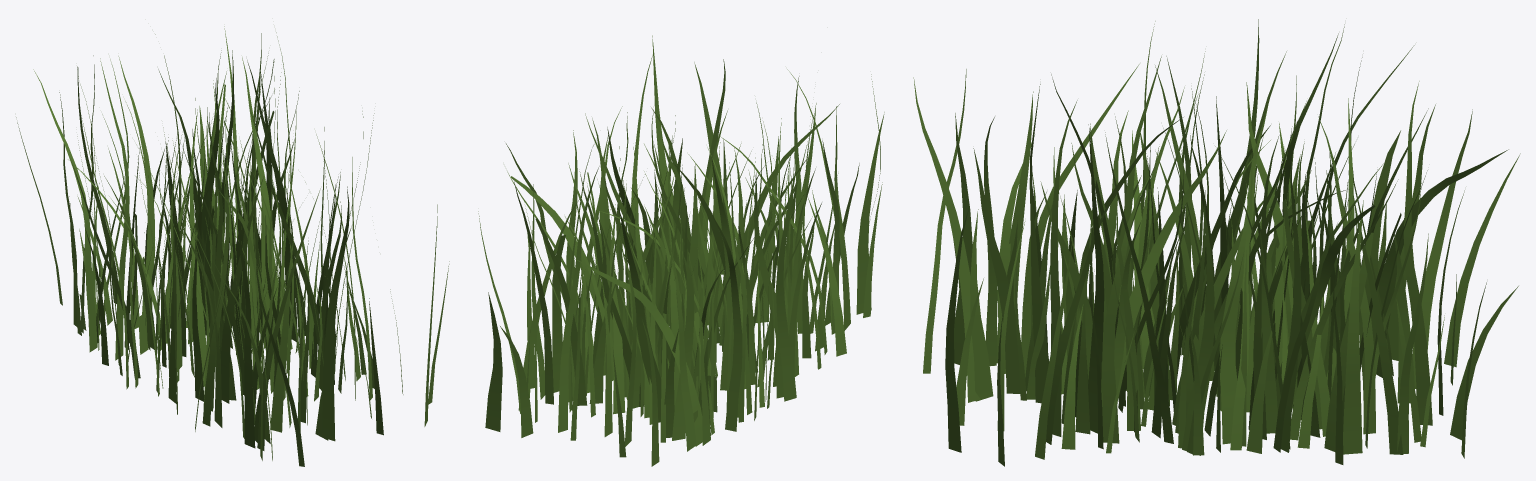
The model's file is plant_swamp_kelp_short_B.fbx.
3 views of the same model, side by side, from view 1: azimuth 30°, elevation 25°; view 2: azimuth 150°, elevation 25°; view 3: azimuth 270°, elevation 25° (orthographic). The views are drawn at different scales.
Parts seen in each view (by area): view 1: plant_swamp_kelp_short_B; view 2: plant_swamp_kelp_short_B; view 3: plant_swamp_kelp_short_B.
Part boxes in pixels (x1,y1,x2,y2): plant_swamp_kelp_short_B: [16, 26, 449, 466]; plant_swamp_kelp_short_B: [478, 35, 884, 466]; plant_swamp_kelp_short_B: [913, 19, 1520, 466].
Bounding box in the file's own units: 274 × 292 × 480.
